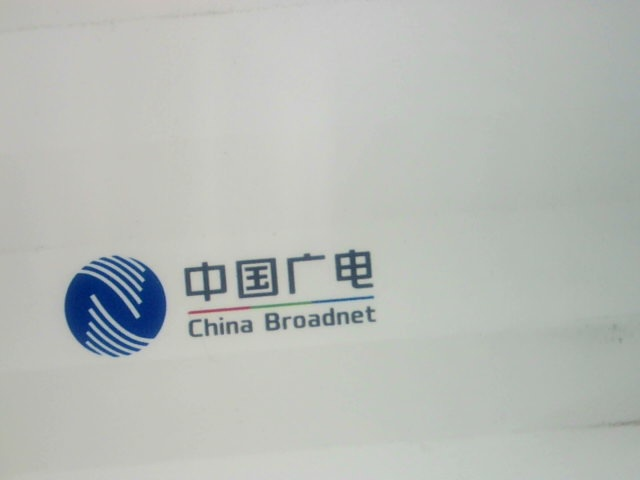AW_ChinaBroadNet: (60, 248, 388, 361)
